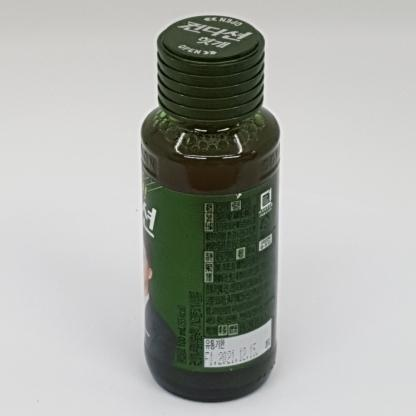CJ-----100ML: (141, 16, 280, 402)
